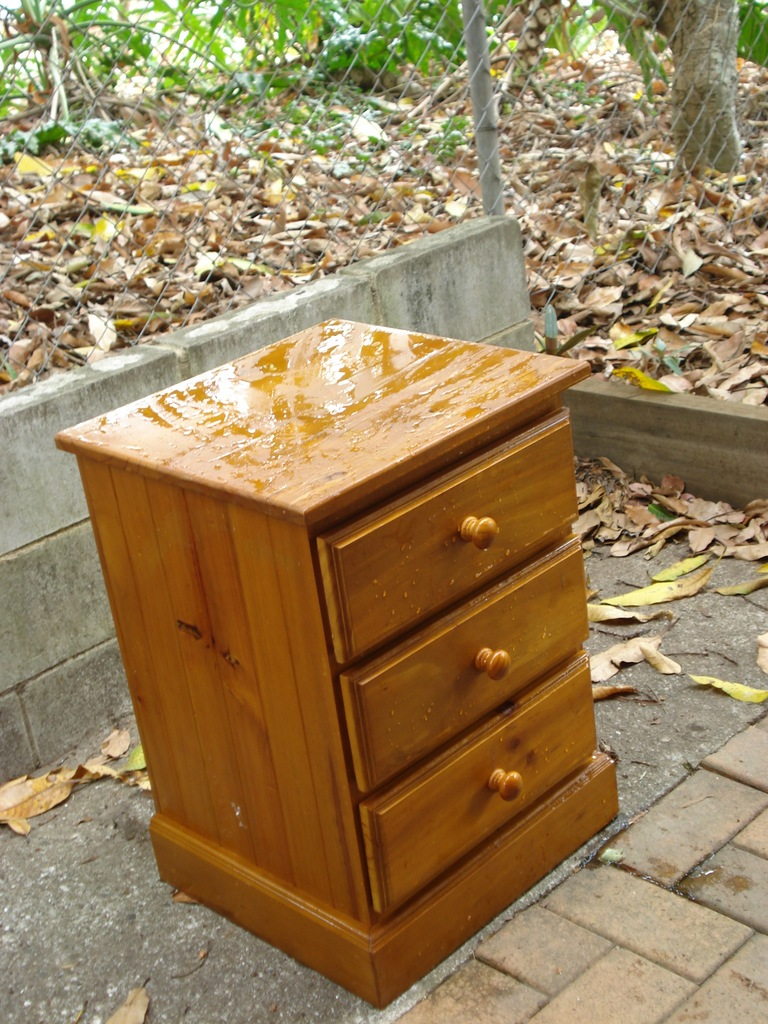cabinet door: (325, 422, 577, 560), (370, 714, 589, 839), (379, 589, 583, 694)
handle: (461, 496, 498, 553), (488, 747, 519, 811), (477, 637, 515, 681)
